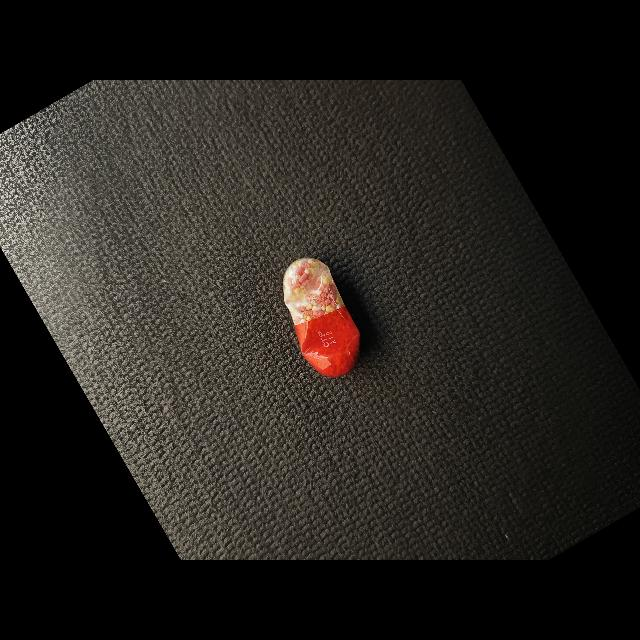Defective Capsule: (283, 258, 360, 378)
